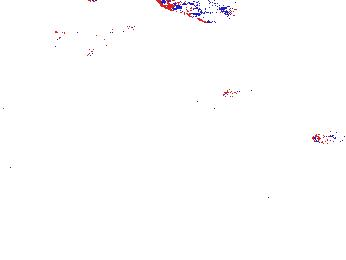red belly glassfish: (221, 84, 262, 100), (312, 130, 346, 148)
redtail glassfish: (66, 19, 141, 56), (155, 1, 235, 24), (49, 27, 86, 55)
